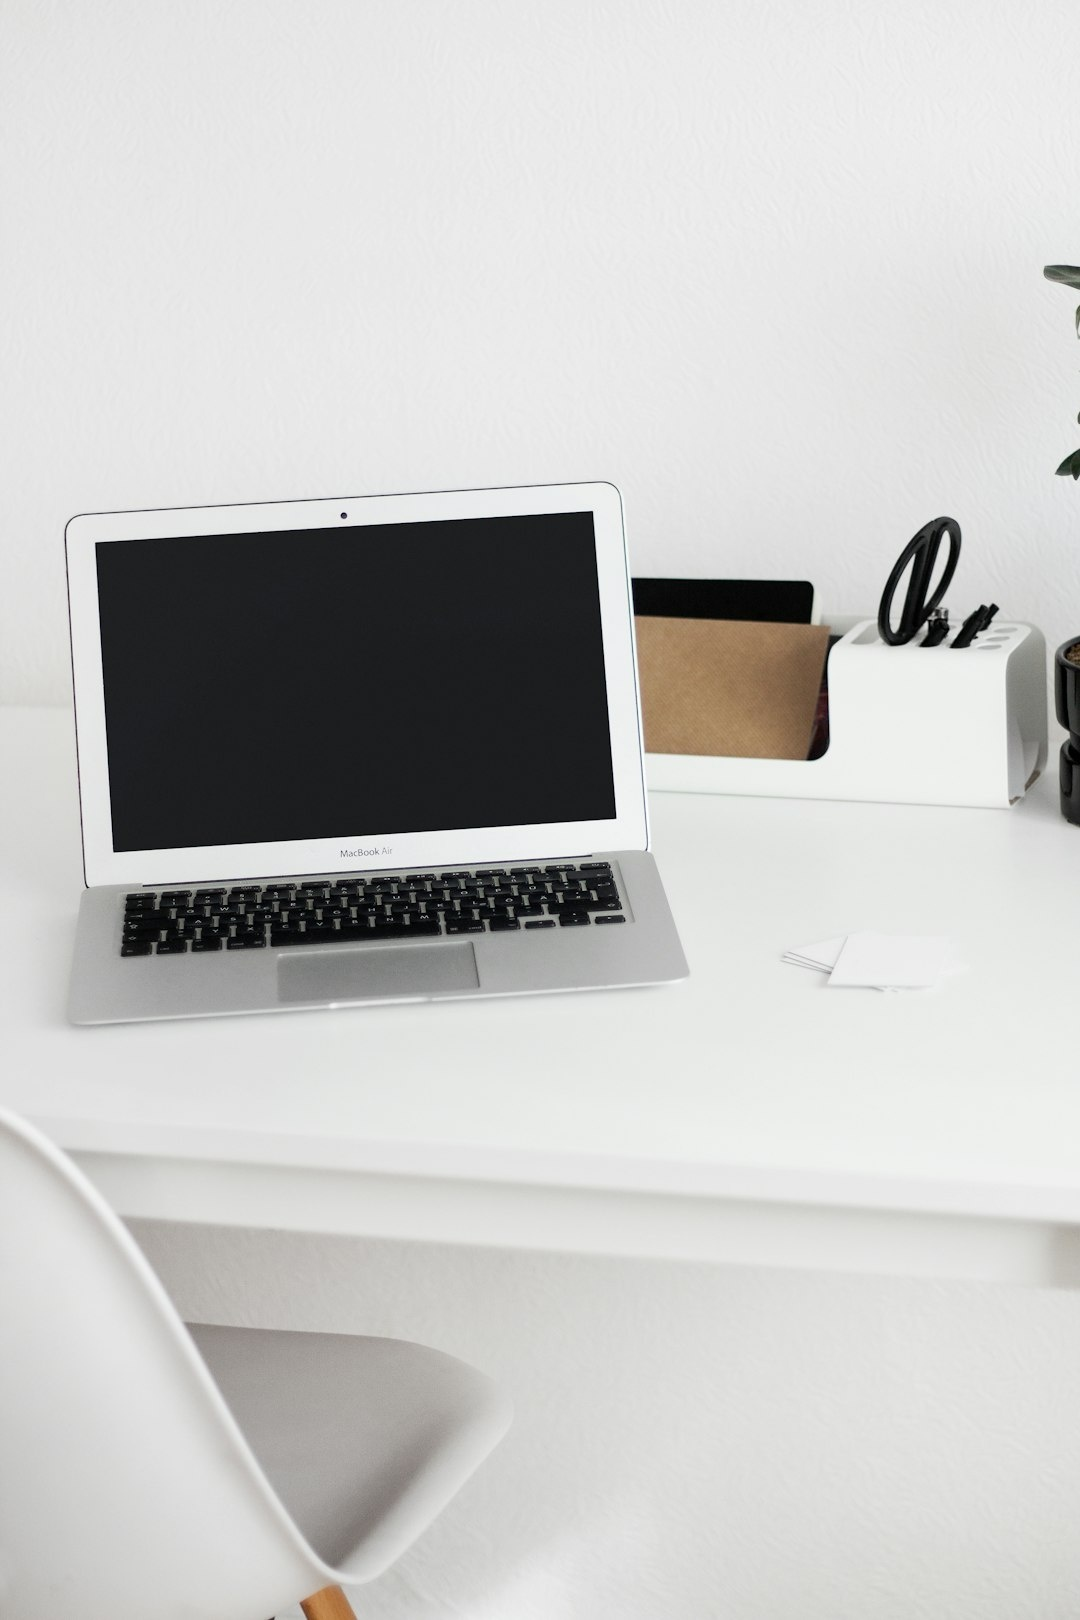laptop: (30, 454, 770, 1025)
